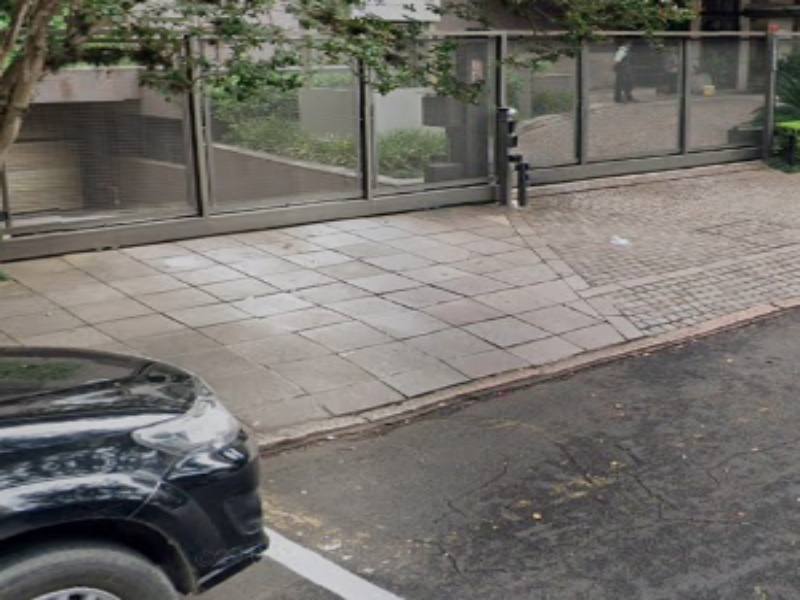v92: (262, 319, 628, 461)
